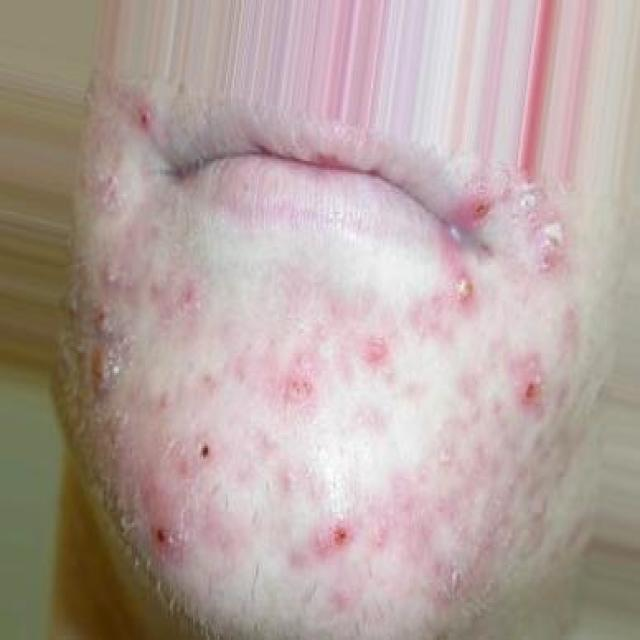acne: (492, 162, 566, 224), (522, 213, 580, 279), (122, 86, 168, 148), (460, 189, 504, 243)
